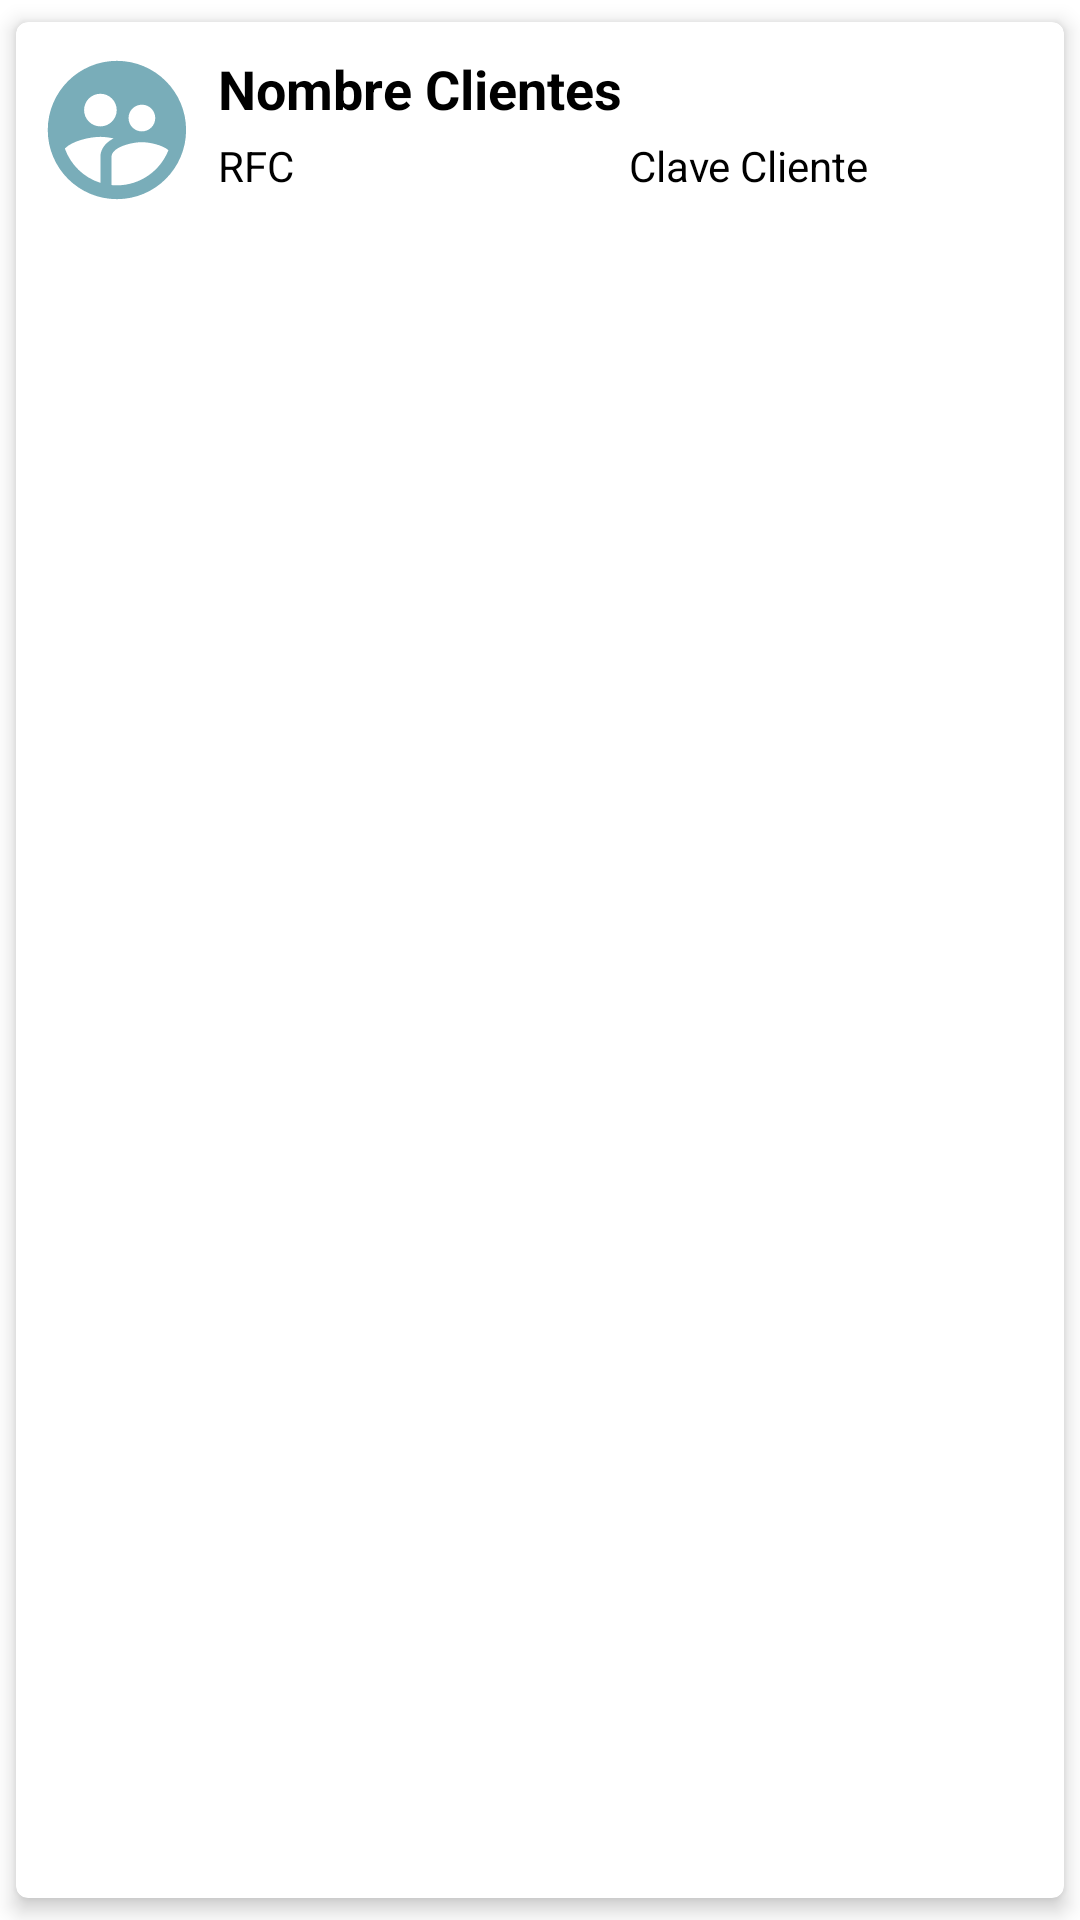

Screen size 1080*1920. Icon name, then its box in pixels as box(x1, y1, x2, y2):
usuarios: box(47, 60, 186, 200)
